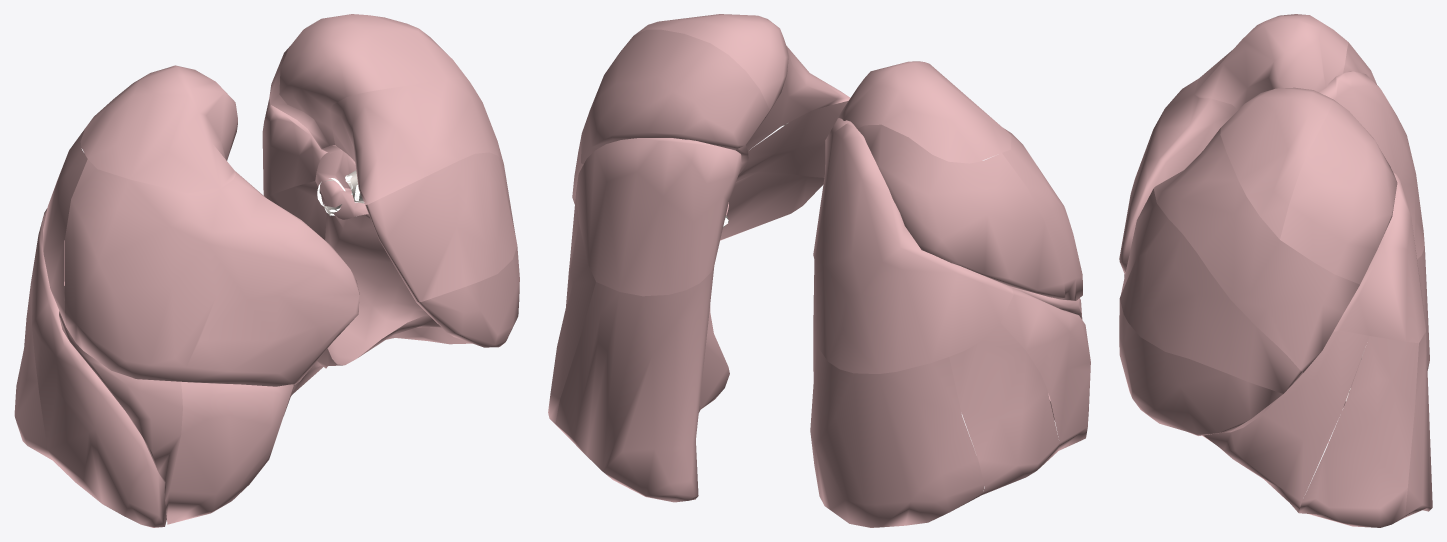
Rendered from alv.glb.
The picture shows the model from 3 angles, left to right: view 1: azimuth 30°, elevation 25°; view 2: azimuth 150°, elevation 25°; view 3: azimuth 270°, elevation 25°; orthographic projection. The views are drawn at different scales.
Visible parts, largest first — view 1: VH_F_hilum_L; view 2: VH_F_hilum_L; view 3: VH_F_hilum_L.
Part boxes in pixels (x1,y1,x2,y2): VH_F_hilum_L: (14, 14, 519, 527); VH_F_hilum_L: (548, 14, 1090, 527); VH_F_hilum_L: (1119, 14, 1432, 527).
Bounding box in the file's own units: 0.2507 × 0.2224 × 0.152.
